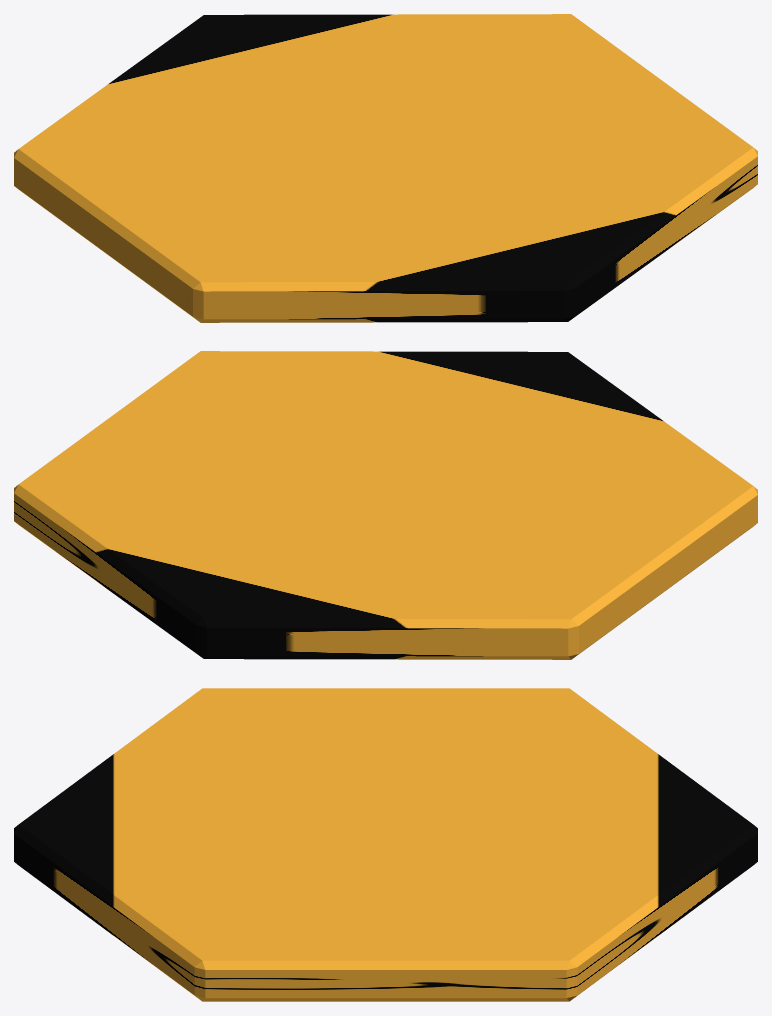
File: target_tile.obj
The picture shows the model from 3 angles, top to bottom: view 1: azimuth 30°, elevation 25°; view 2: azimuth 150°, elevation 25°; view 3: azimuth 270°, elevation 25°; orthographic projection.
Visible parts, largest first — view 1: Cylinder; view 2: Cylinder; view 3: Cylinder.
Part boxes in pixels (x1,y1,x2,y2): Cylinder: [14, 14, 757, 322]; Cylinder: [14, 351, 757, 659]; Cylinder: [14, 688, 757, 1001].
Bounding box in the file's own units: 1.75 × 0.1201 × 1.98.
